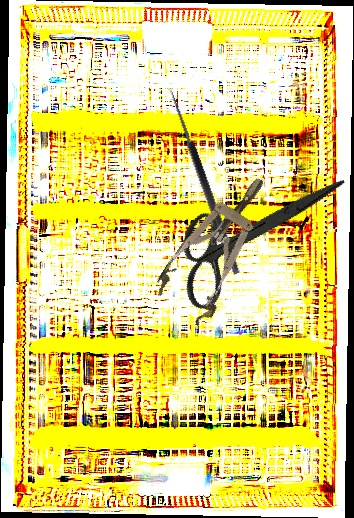Hook Surgical: (156, 86, 243, 279)
Iris Scissors: (156, 127, 347, 343)
Speculum: (148, 162, 289, 330)
